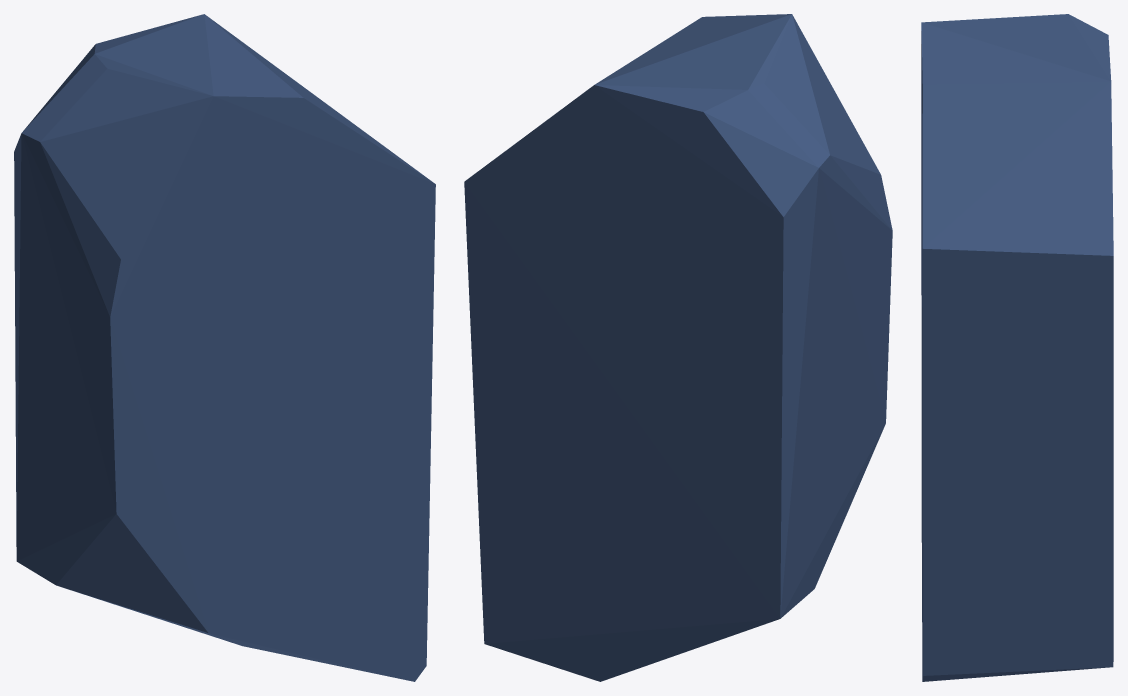
3 views of the same model, side by side, from view 1: azimuth 30°, elevation 25°; view 2: azimuth 150°, elevation 25°; view 3: azimuth 270°, elevation 25° (orthographic). The views are drawn at different scales.
Size of the model in its own units: 4.77 by 8.58 by 2.62.
